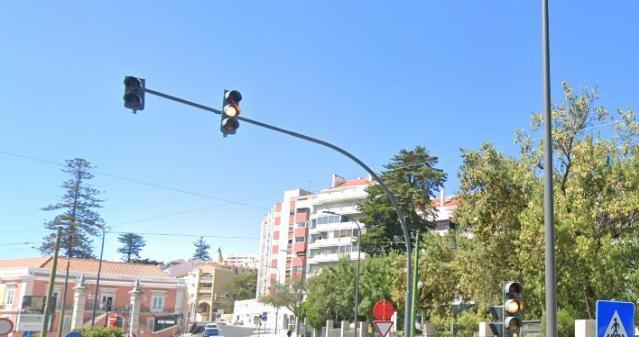yellow_light: (221, 89, 242, 135), (503, 282, 522, 332)
